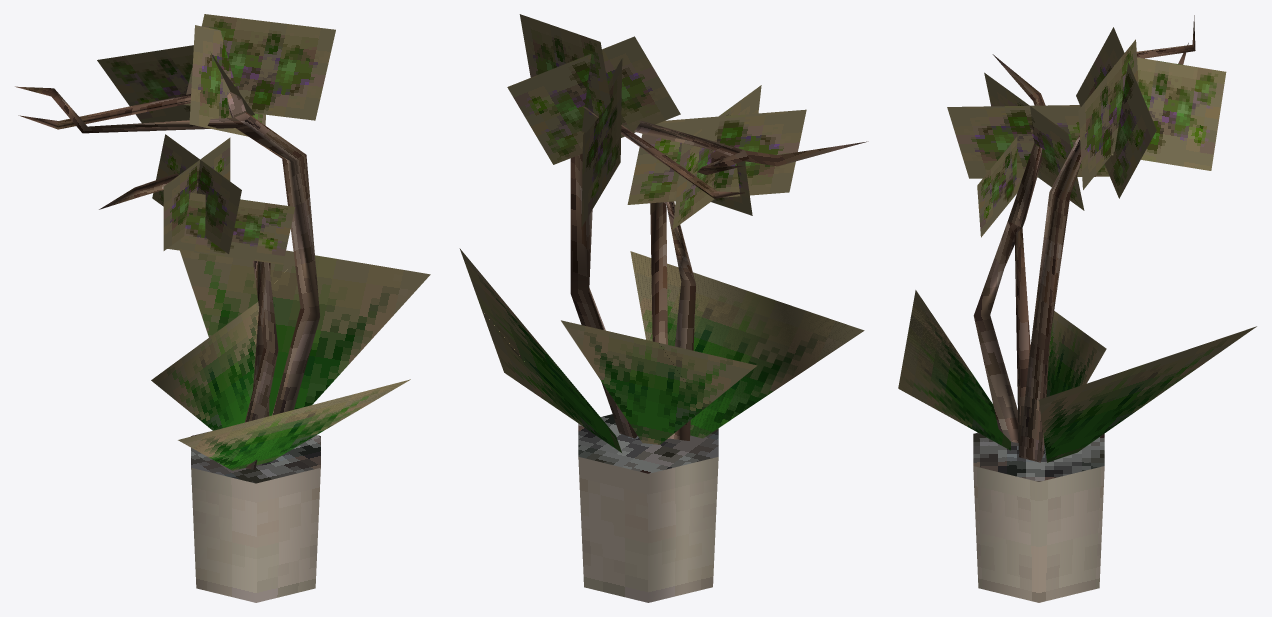
Rendered from frn_all_tree_potted_s2_l2.fbx.
The picture shows the model from 3 angles, left to right: view 1: azimuth 30°, elevation 25°; view 2: azimuth 150°, elevation 25°; view 3: azimuth 270°, elevation 25°; orthographic projection. The views are drawn at different scales.
Visible parts, largest first — view 1: mesh_node; view 2: mesh_node; view 3: mesh_node.
Boxes of the visible parts, box(x1,y1,x2,y2) form: mesh_node: box(15, 14, 430, 602); mesh_node: box(459, 14, 868, 602); mesh_node: box(898, 15, 1256, 602).
Size of the model in its own units: 1.75 by 2.47 by 1.51.
